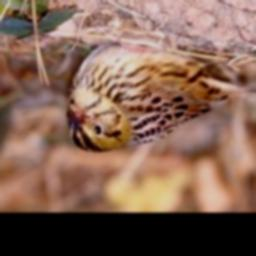Sparrow: (65, 38, 256, 156)
